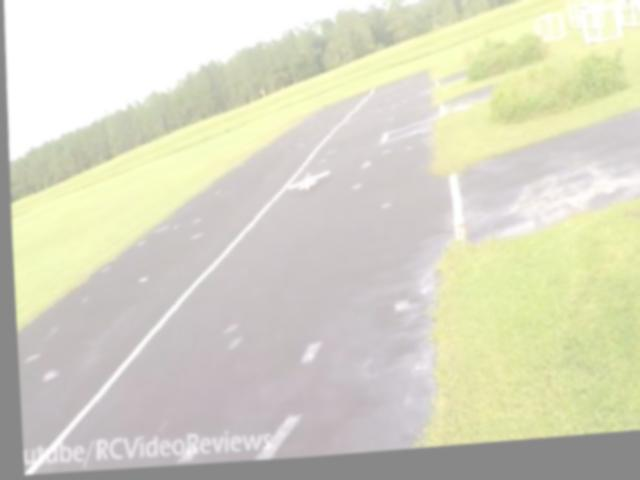uav: (281, 168, 333, 204)
